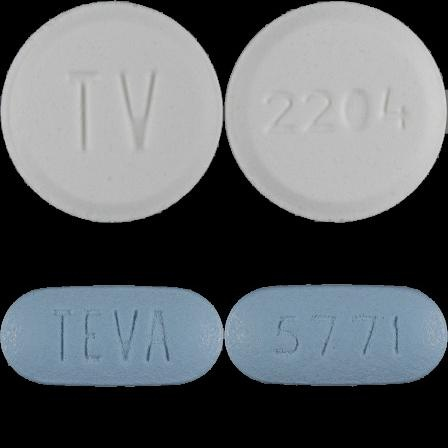0615-7698: (0, 0, 224, 224)
